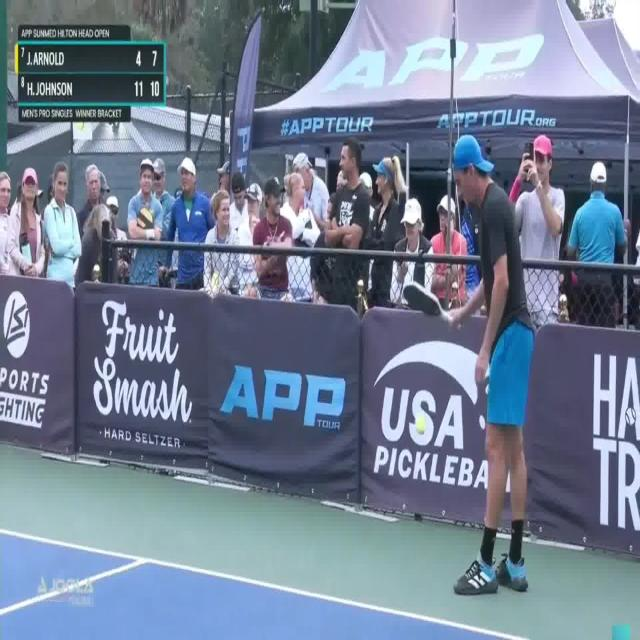ball: (414, 412, 428, 442)
